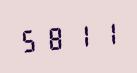eight: (43, 22, 67, 53)
five: (18, 24, 42, 55)
one: (93, 17, 117, 48), (68, 20, 92, 50)
